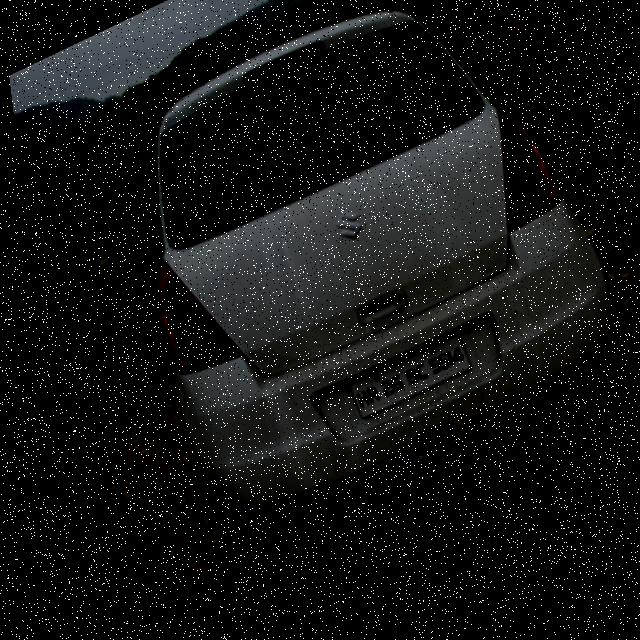license_plate: (334, 345, 463, 431)
